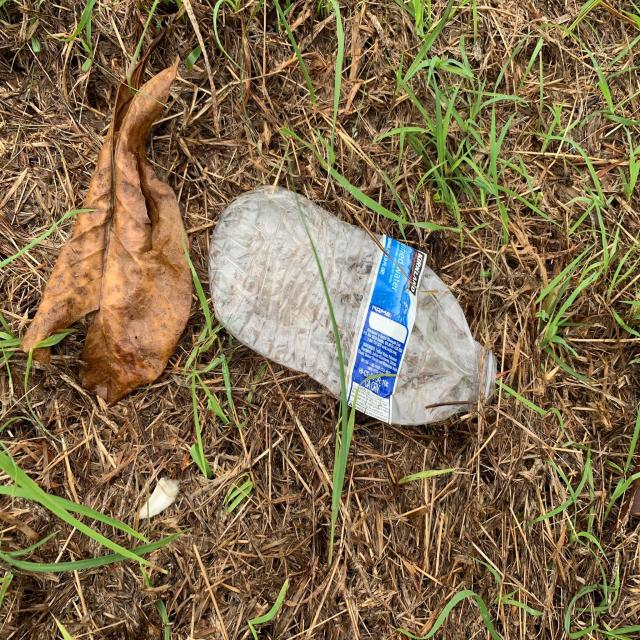litter: (208, 185, 495, 424)
